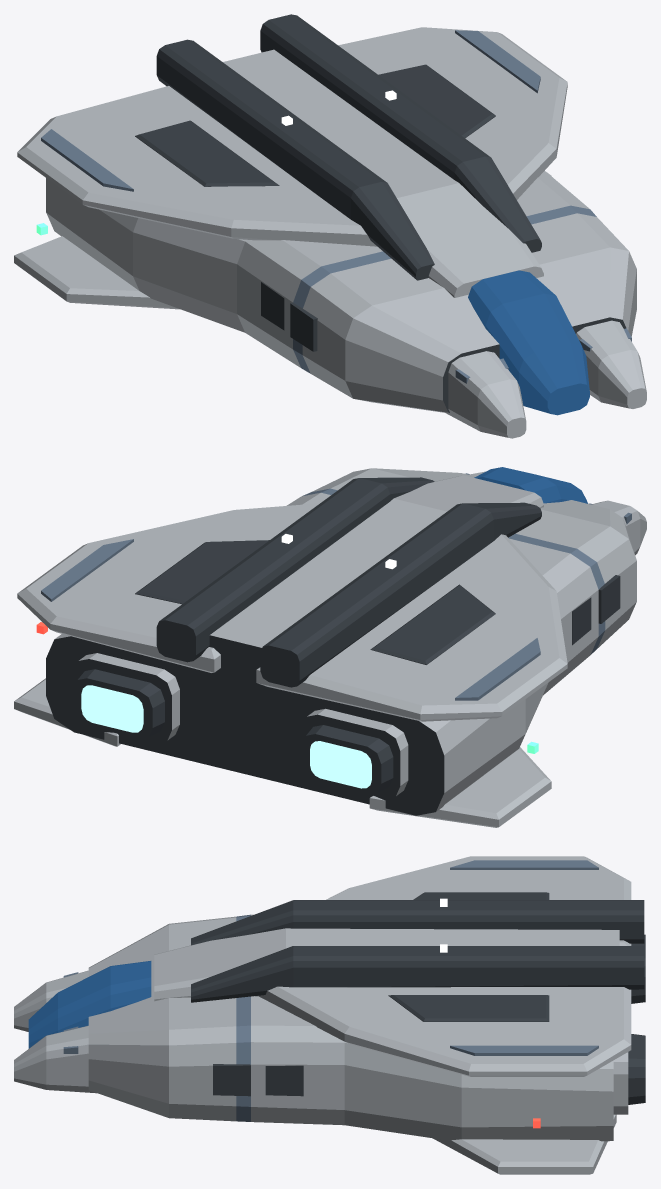
Rendered from vulture.glb.
3 renders of one model, top to bottom at view 1: azimuth 30°, elevation 25°; view 2: azimuth 150°, elevation 25°; view 3: azimuth 270°, elevation 25°, orthographic. The views are drawn at different scales.
Parts seen in each view (by area): view 1: vulture; view 2: vulture; view 3: vulture.
Part boxes in pixels (x1,y1,x2,y2): vulture: (14, 14, 646, 438); vulture: (14, 467, 646, 827); vulture: (14, 856, 645, 1174).
Size of the model in its own units: 35.53 by 12.06 by 43.28.
